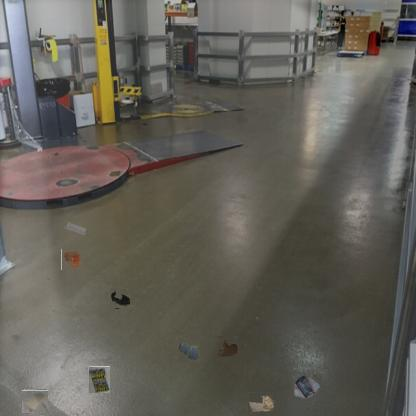dirty: (292, 374, 322, 400), (23, 390, 48, 414), (88, 366, 110, 393), (248, 392, 274, 412), (61, 249, 83, 270), (110, 289, 130, 309), (64, 221, 86, 235)
liquid: (180, 344, 202, 364), (218, 336, 238, 358)
